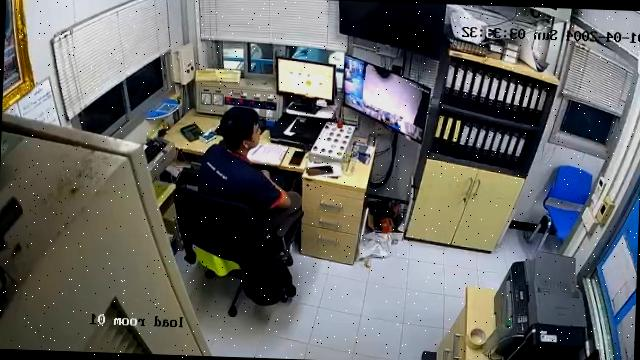Head: (211, 106, 262, 155)
People: (199, 107, 301, 234)
Phone: (305, 166, 335, 176), (289, 152, 306, 166)
